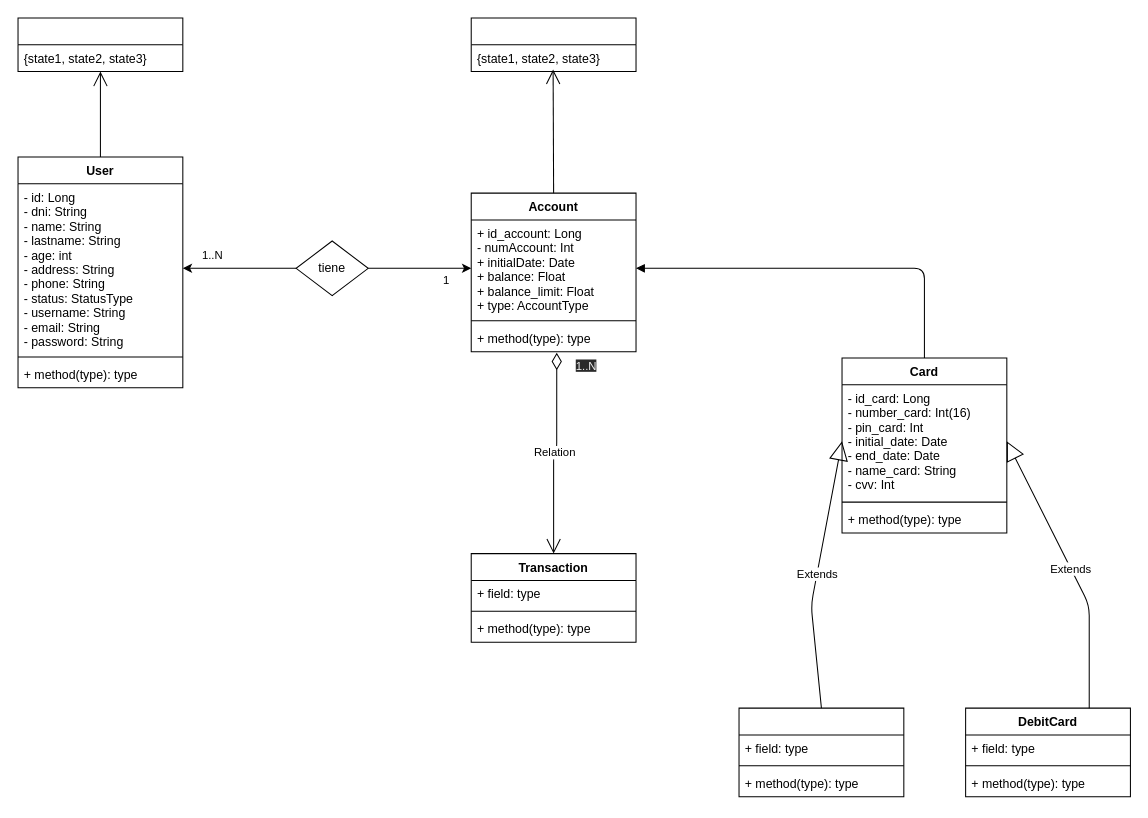
Some shapes in this 1148 by 818 pixel diagram are drawn without their labels. The box of each missing label's shape, as (x1, y1, x2, y2) in pixels:
AccountType: (470, 17, 636, 72)
CreditCard: (738, 707, 904, 797)
StatusType: (17, 17, 183, 72)
